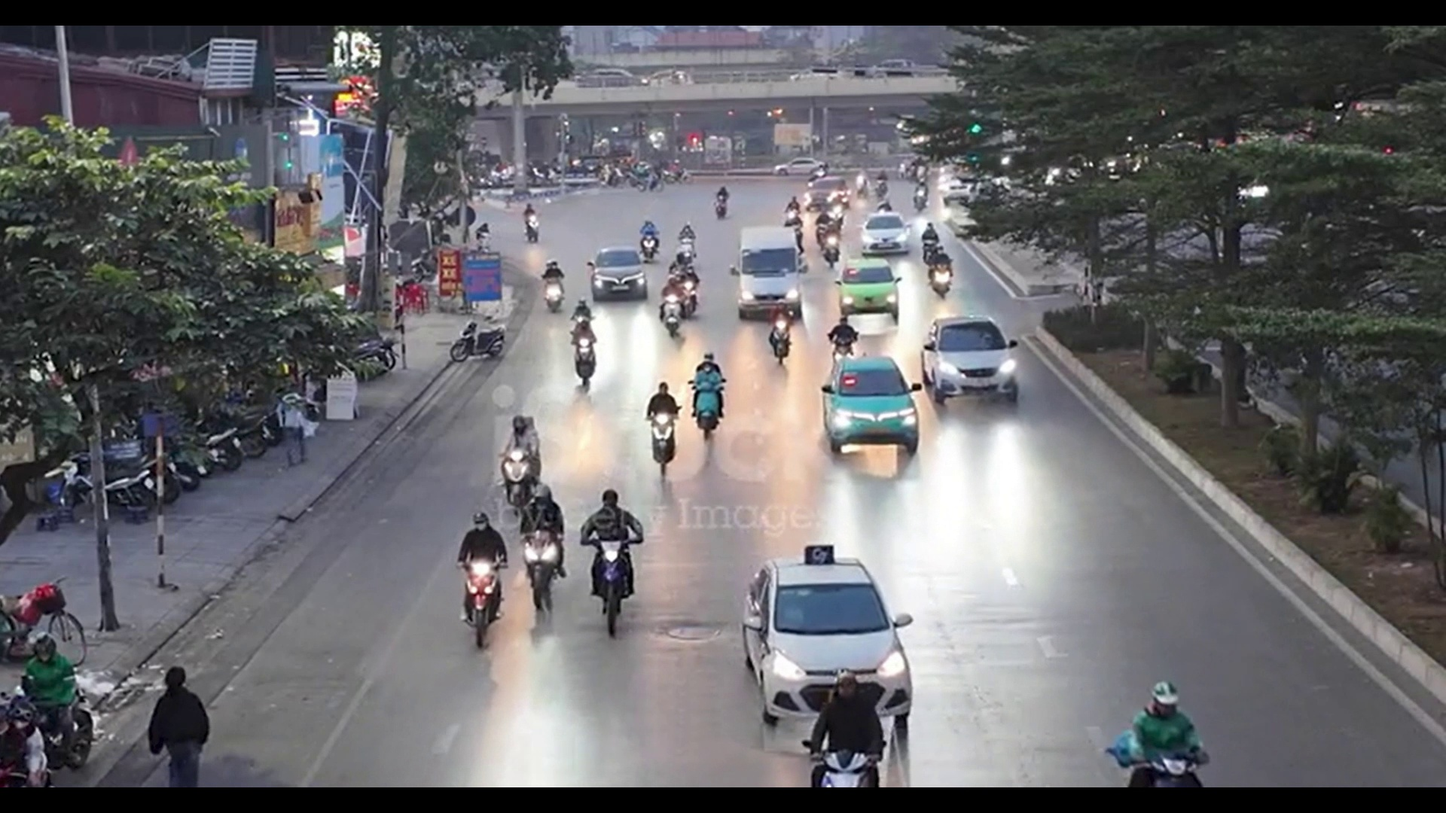car: (742, 549, 913, 732), (822, 354, 920, 469), (925, 316, 1019, 404), (732, 232, 804, 321), (838, 260, 900, 331), (589, 246, 648, 302), (863, 211, 910, 257)
motorcycle: (571, 318, 598, 390)
